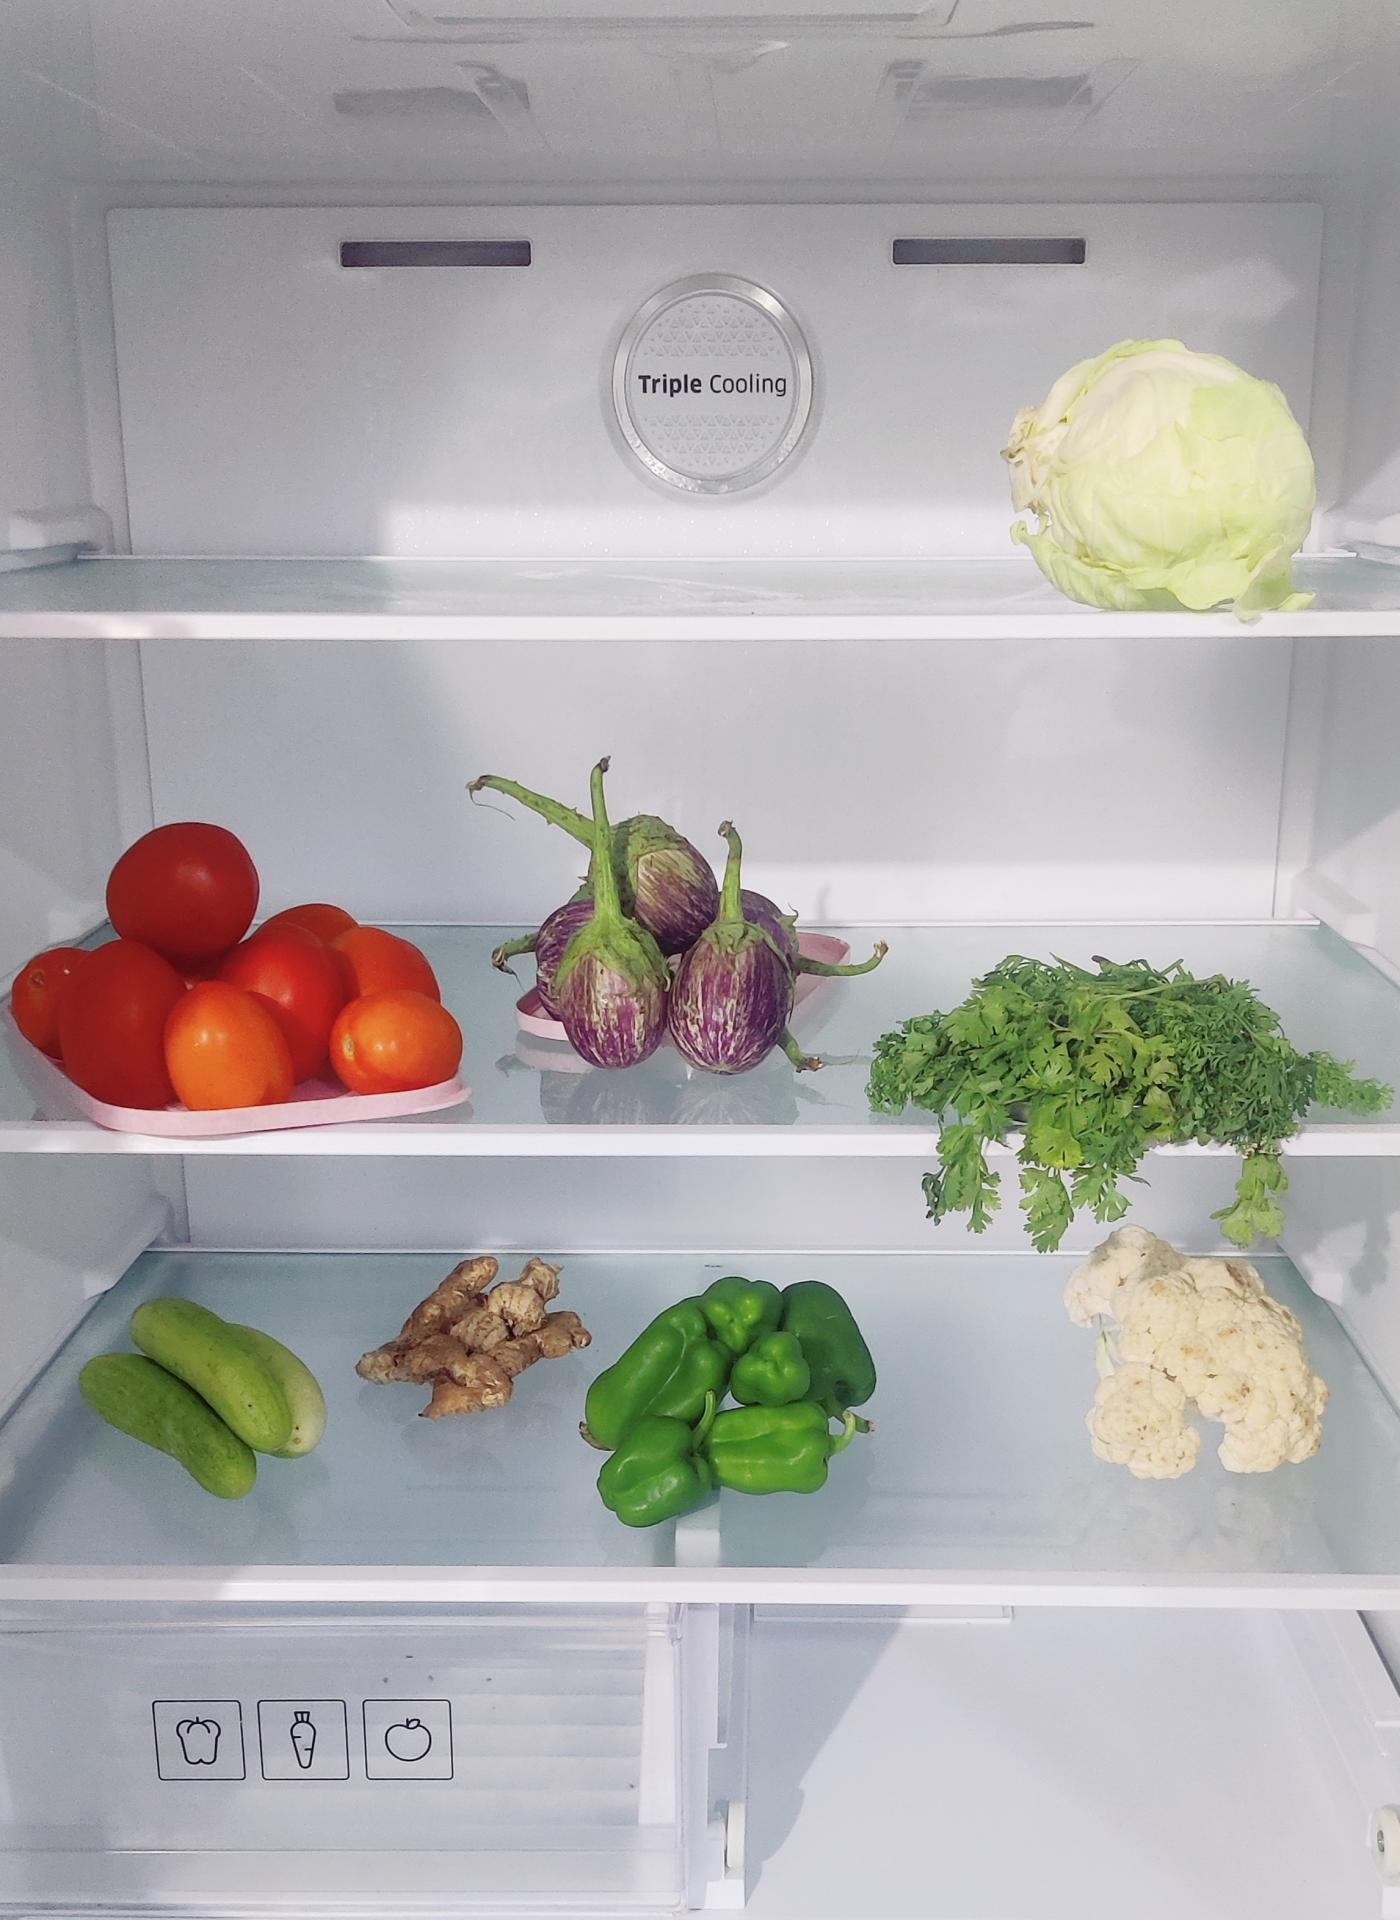brinjal: (531, 814, 798, 1070)
cabbage: (1017, 338, 1324, 617)
capsicum: (590, 1283, 877, 1526)
cauliflower: (1078, 1227, 1334, 1479)
coriander: (875, 961, 1381, 1172)
cucumber: (78, 1297, 337, 1495)
ginger: (358, 1254, 590, 1421)
tomato: (9, 829, 464, 1118)
